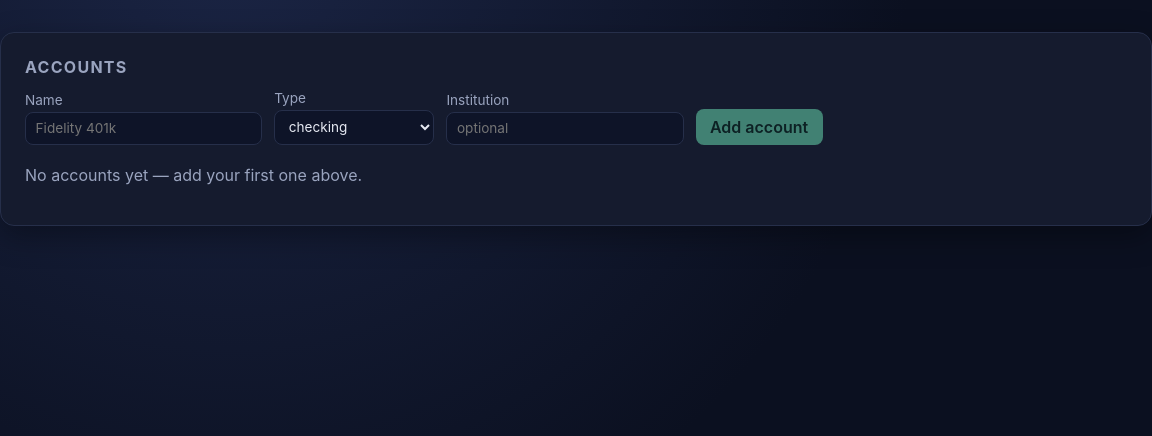
Test: AccountsView › surfaces API validation errors
This screenshot has width=1152, height=436.
expect the text "No accounts yet — add your first one above." is shown: met, box [25,165,362,185]
Type "Bad" into the field named "account name" at (144, 128), box [25,112,262,145]
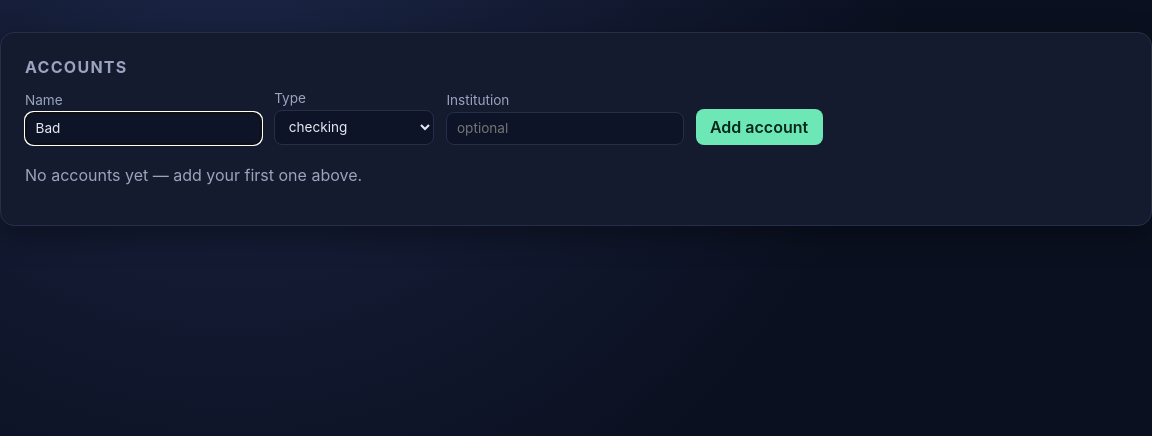
Click the button "Add account" at (759, 127), box [696,109,823,145]
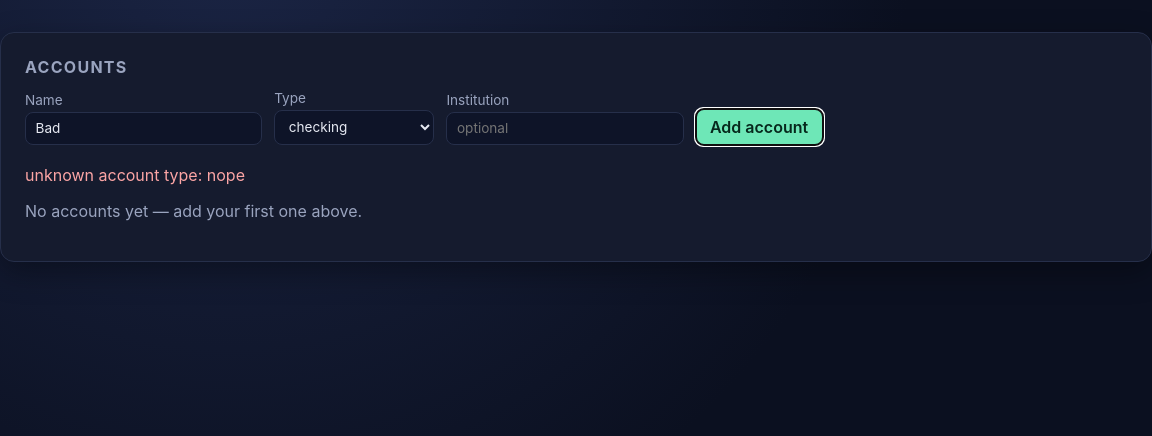
expect the text "unknown account type: nope" is shown: met, box [25,165,245,185]
